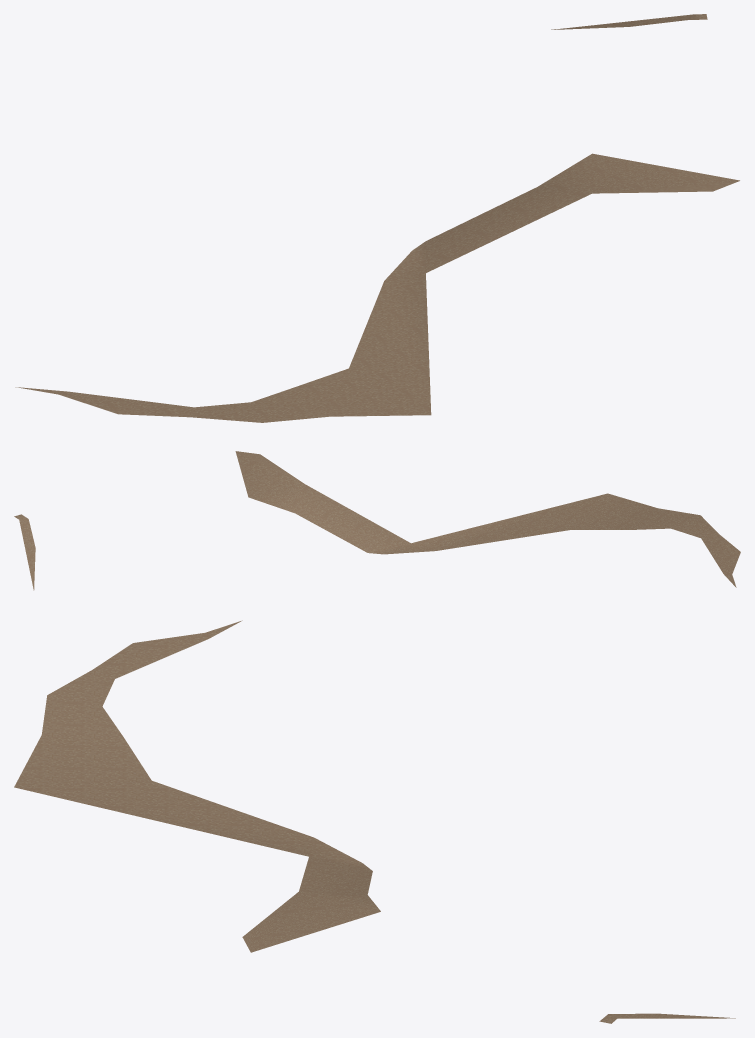
File: kd_stage_13612f_4_54_bounded.glb
3 views of the same model, one above another, from view 1: azimuth 30°, elevation 25°; view 2: azimuth 150°, elevation 25°; view 3: azimuth 270°, elevation 25° (orthographic). The views are drawn at different scales.
Visible parts, largest first — view 1: kd_stage_13612f_4_54_bounded; view 2: kd_stage_13612f_4_54_bounded; view 3: kd_stage_13612f_4_54_bounded.
Part boxes in pixels (x1,y1,x2,y2): kd_stage_13612f_4_54_bounded: (15,14,739,422); kd_stage_13612f_4_54_bounded: (14,451,740,590); kd_stage_13612f_4_54_bounded: (14,620,735,1023).
Bounding box in the file's own units: 49.91 × 2.4 × 35.7.
1 material, 1 textured.
